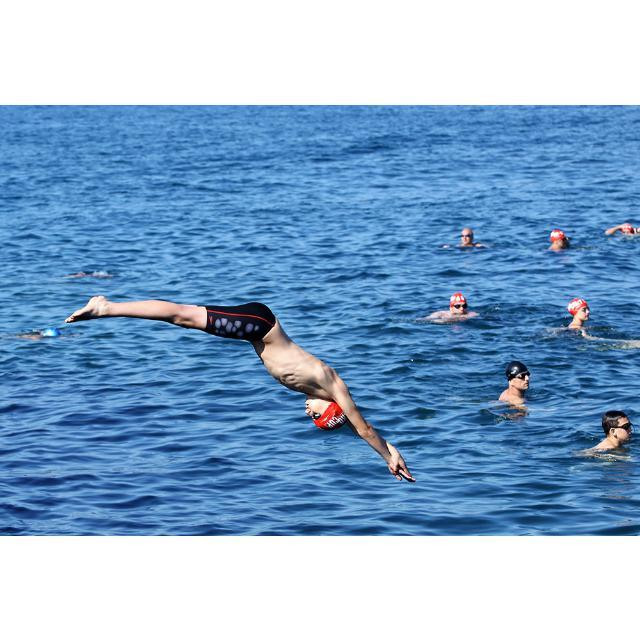human: (588, 408, 633, 462), (497, 358, 534, 413), (432, 293, 479, 321), (565, 297, 597, 336), (447, 225, 490, 249), (547, 229, 575, 257), (607, 222, 640, 239)
